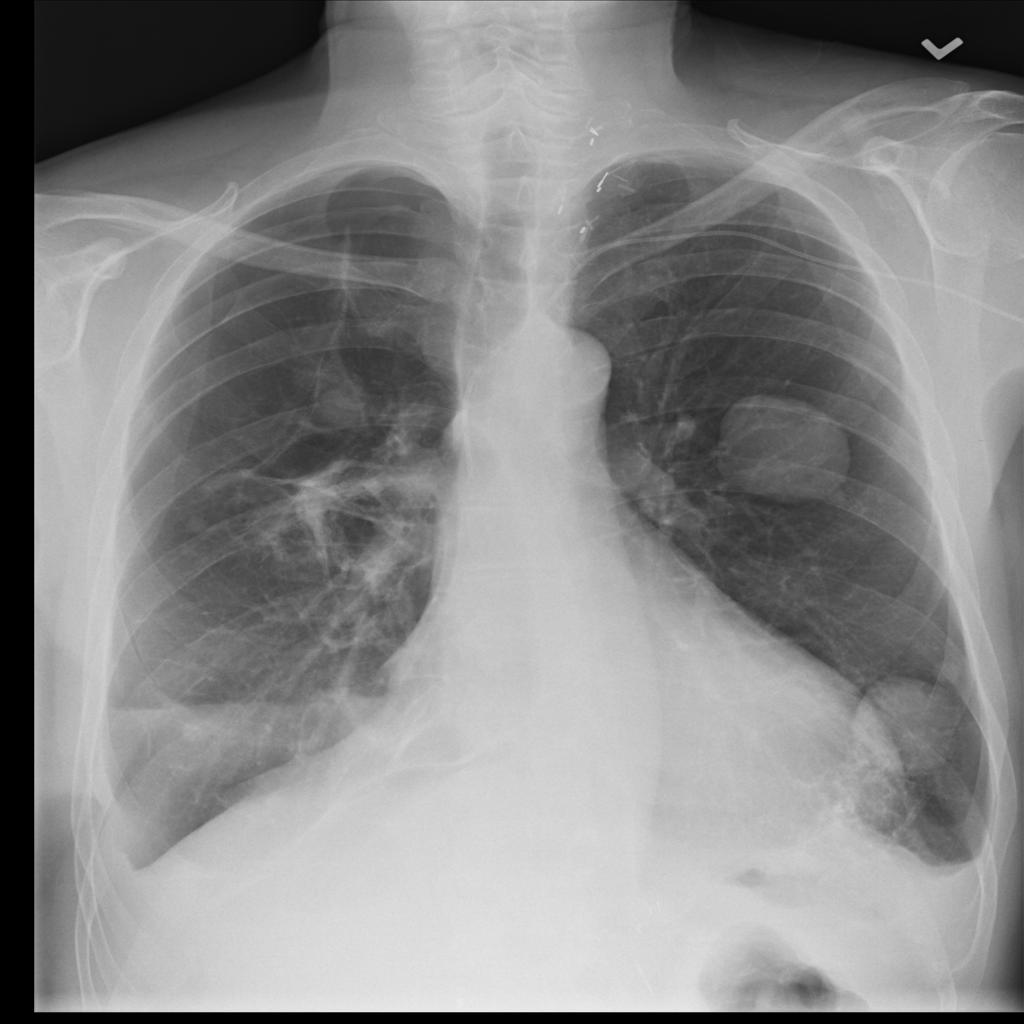nodule: (697, 374, 878, 519), (845, 665, 975, 787), (298, 364, 382, 438), (923, 646, 978, 693), (170, 499, 225, 545)
